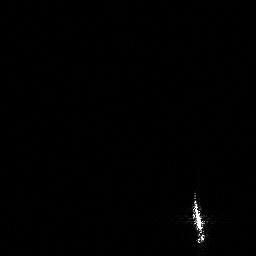ship: (188, 189, 210, 245)
